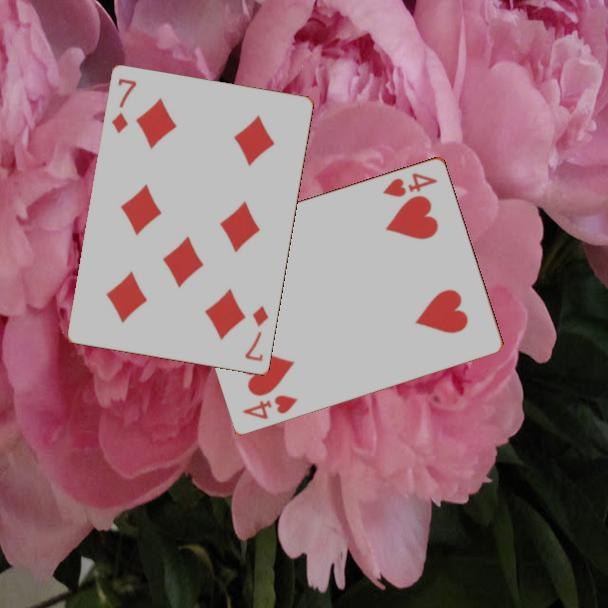d07: (108, 75, 140, 137), (242, 303, 272, 365)
h04: (239, 391, 301, 422), (379, 169, 441, 199)
